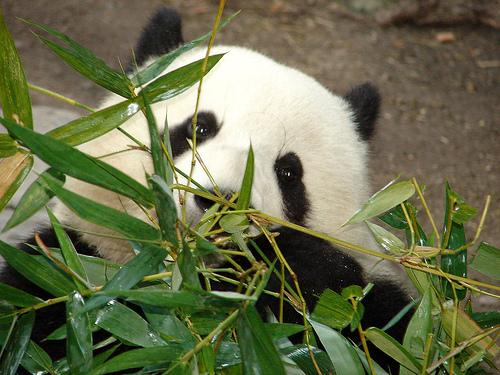panda: (197, 46, 385, 251), (197, 45, 382, 251), (197, 45, 381, 251), (275, 228, 415, 327), (276, 228, 415, 327), (54, 201, 132, 263), (55, 202, 133, 263), (55, 203, 132, 262), (153, 83, 197, 174), (63, 176, 150, 222), (153, 85, 196, 173), (134, 9, 182, 69), (134, 9, 180, 69), (168, 87, 195, 173), (138, 12, 175, 69), (103, 152, 153, 183), (79, 130, 135, 156), (163, 48, 206, 73), (123, 113, 149, 145), (186, 195, 202, 224), (193, 166, 211, 190), (176, 150, 190, 175), (100, 95, 122, 108)
